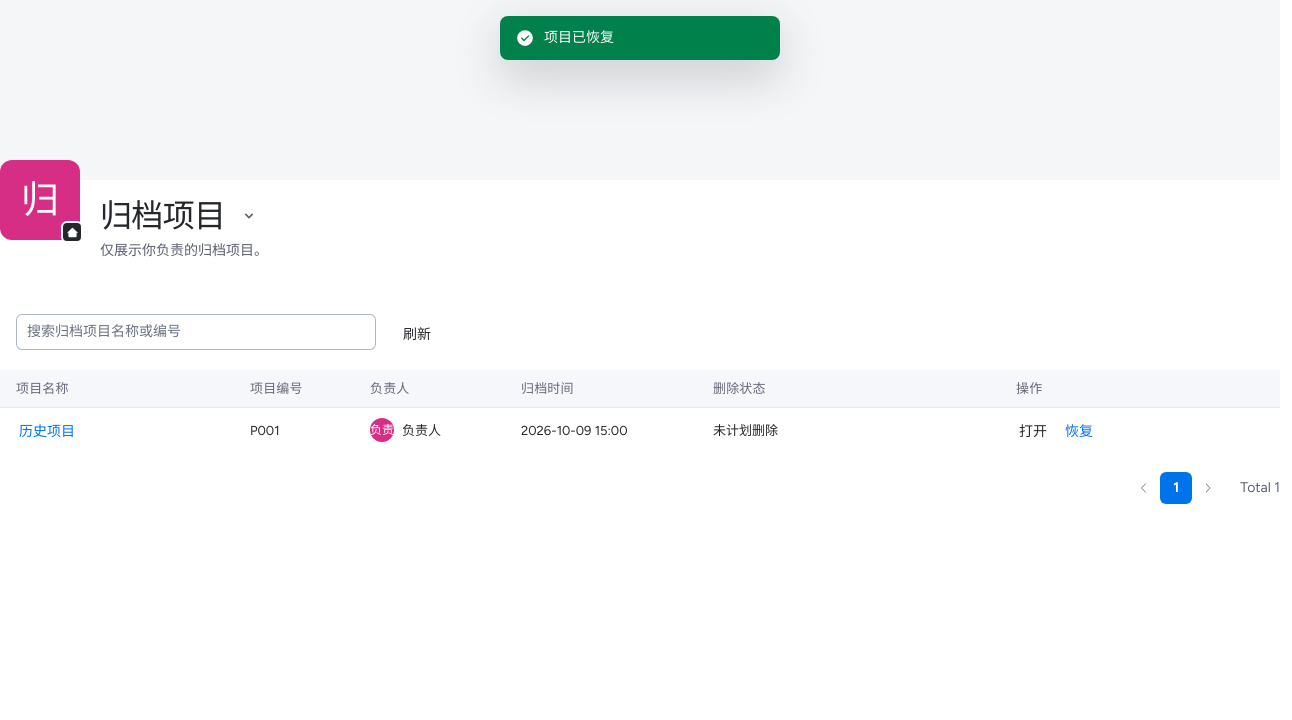
归档项目页 › 版本冲突刷新列表并保留错误说明
Step 1. Click the button "恢复" → x=1079, y=431, box [1062,421,1096,441]
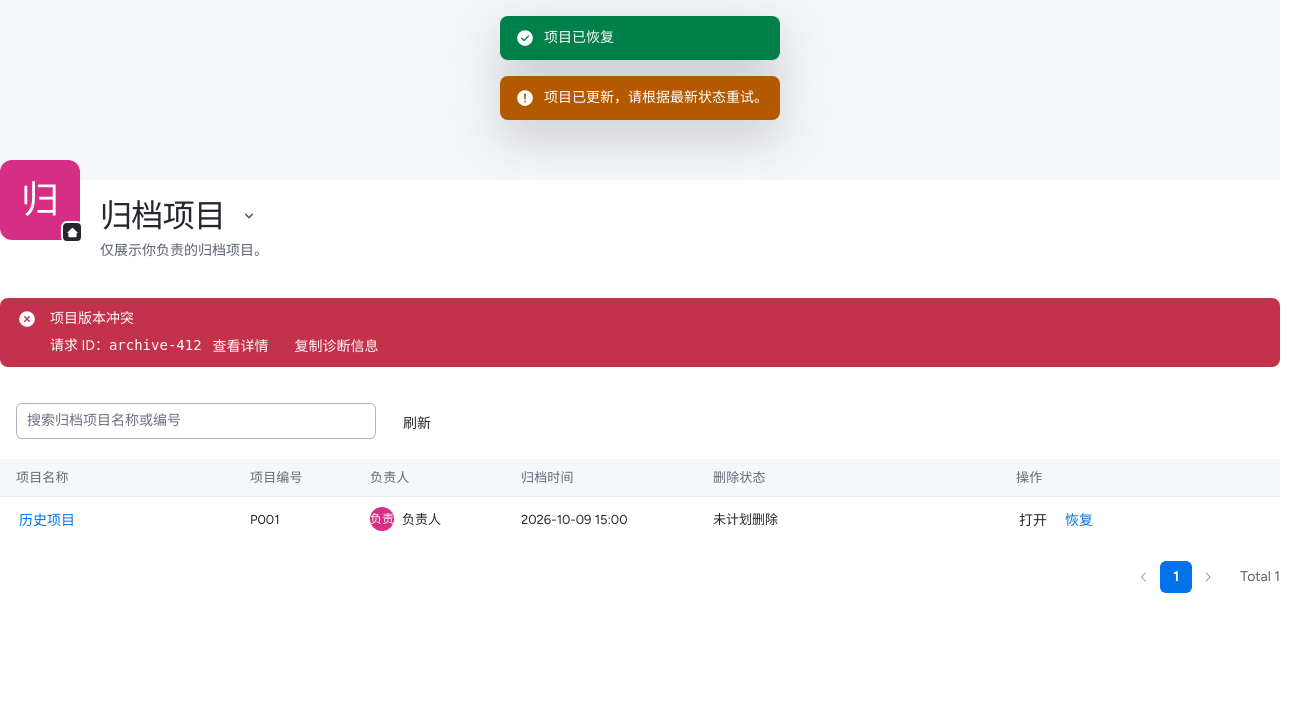
Now the text "项目版本冲突" is shown, box [50,310,134,327]
